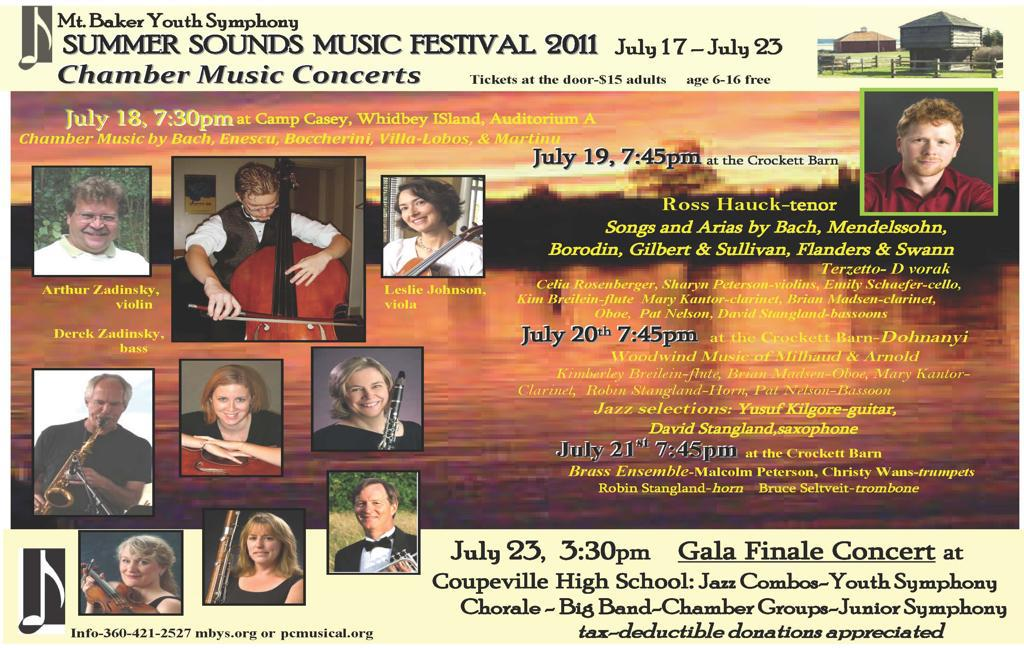face: (902, 121, 956, 176), (71, 197, 119, 252), (345, 369, 390, 417), (400, 190, 441, 232), (89, 380, 124, 428), (354, 484, 391, 529), (120, 548, 160, 587), (213, 386, 251, 426), (247, 525, 282, 564), (245, 195, 278, 218)
